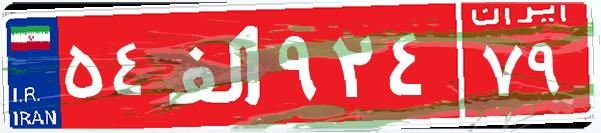2: (330, 28, 385, 110)
4: (385, 28, 445, 110), (110, 28, 158, 105)
5: (57, 26, 110, 107)
7: (475, 38, 525, 113)
9: (273, 28, 330, 110), (525, 38, 570, 115)
الف: (158, 15, 273, 115)
